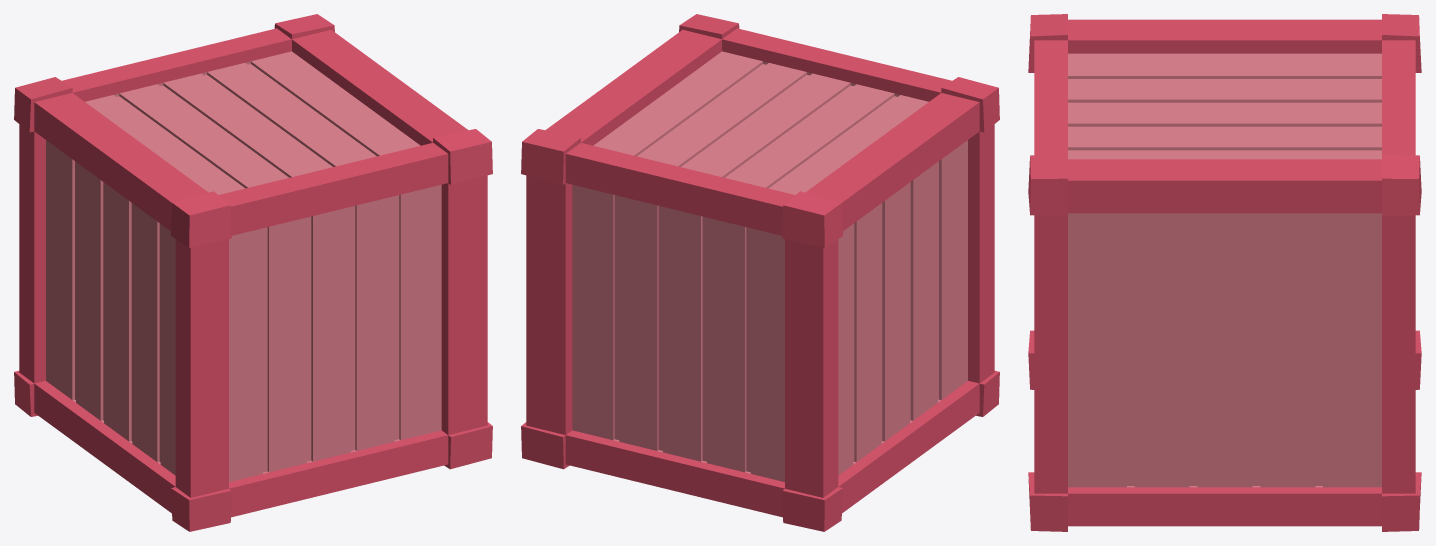
The model's file is laatikko.fbx.
3 views of the same model, side by side, from view 1: azimuth 30°, elevation 25°; view 2: azimuth 150°, elevation 25°; view 3: azimuth 270°, elevation 25° (orthographic). The views are drawn at different scales.
Parts seen in each view (by area): view 1: Cube.001, Cube; view 2: Cube.001, Cube; view 3: Cube.001, Cube.
Part boxes in pixels (<box>): Cube.001: <box>46,51,441,481</box>; Cube: <box>14,14,492,531</box>; Cube.001: <box>572,51,967,481</box>; Cube: <box>521,14,999,531</box>; Cube.001: <box>1068,53,1381,487</box>; Cube: <box>1028,14,1421,531</box>.
Bounding box in the file's own units: 103 × 103 × 103.
